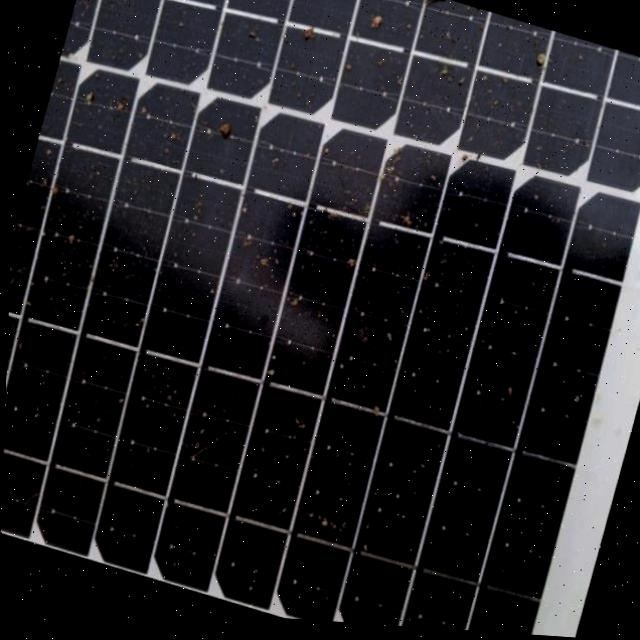Surface Contaminant: (0, 0, 640, 637)
